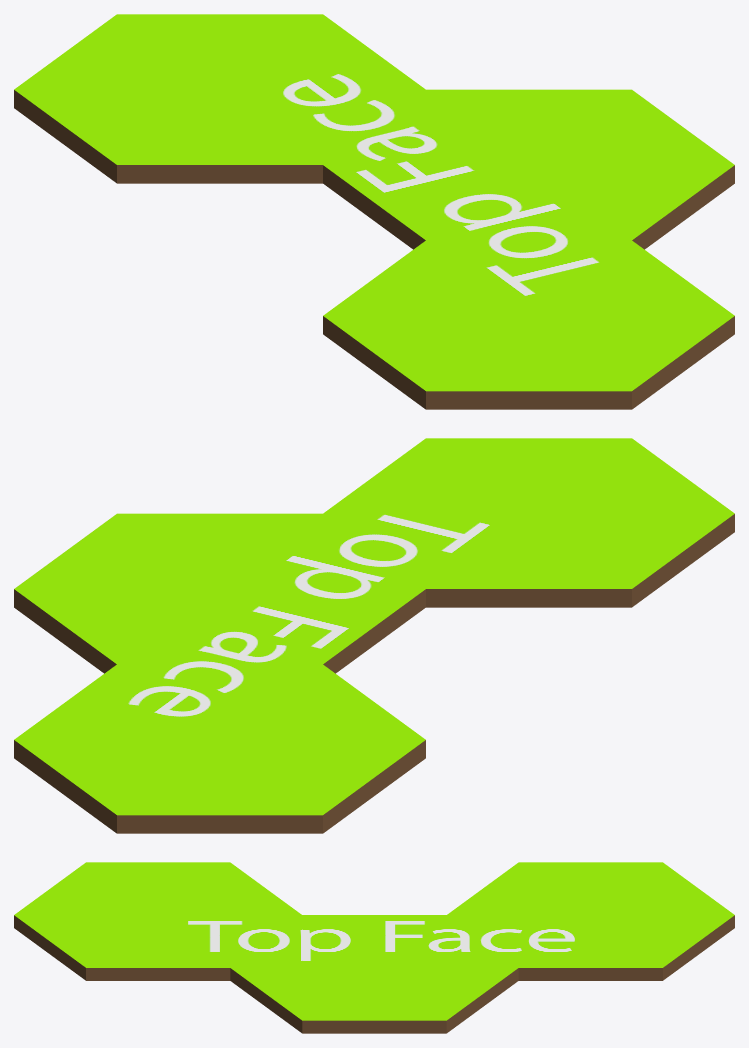
The model's file is three-hexes-long-model.obj.
3 views of the same model, one above another, from view 1: azimuth 30°, elevation 25°; view 2: azimuth 150°, elevation 25°; view 3: azimuth 270°, elevation 25° (orthographic). The views are drawn at different scales.
Visible parts, largest first — view 1: Cylinder.002; view 2: Cylinder.002; view 3: Cylinder.002.
Part boxes in pixels (x1=…): Cylinder.002: x1=14, y1=14, x2=734, y2=409; Cylinder.002: x1=14, y1=438, x2=734, y2=833; Cylinder.002: x1=14, y1=862, x2=734, y2=1033.
Size of the model in its own units: 2.6 by 0.0991 by 5.
Materials: 1 (1 with a texture image).
